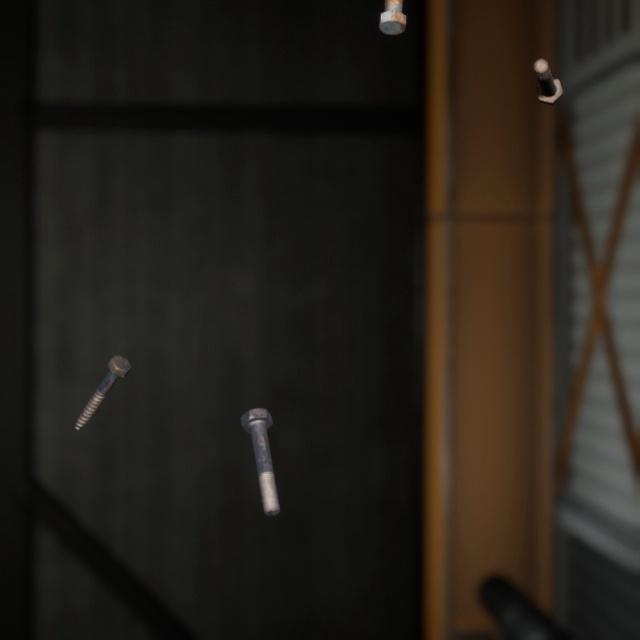bolt: (236, 382, 284, 499), (70, 330, 136, 415), (529, 43, 567, 98), (374, 0, 411, 36)
